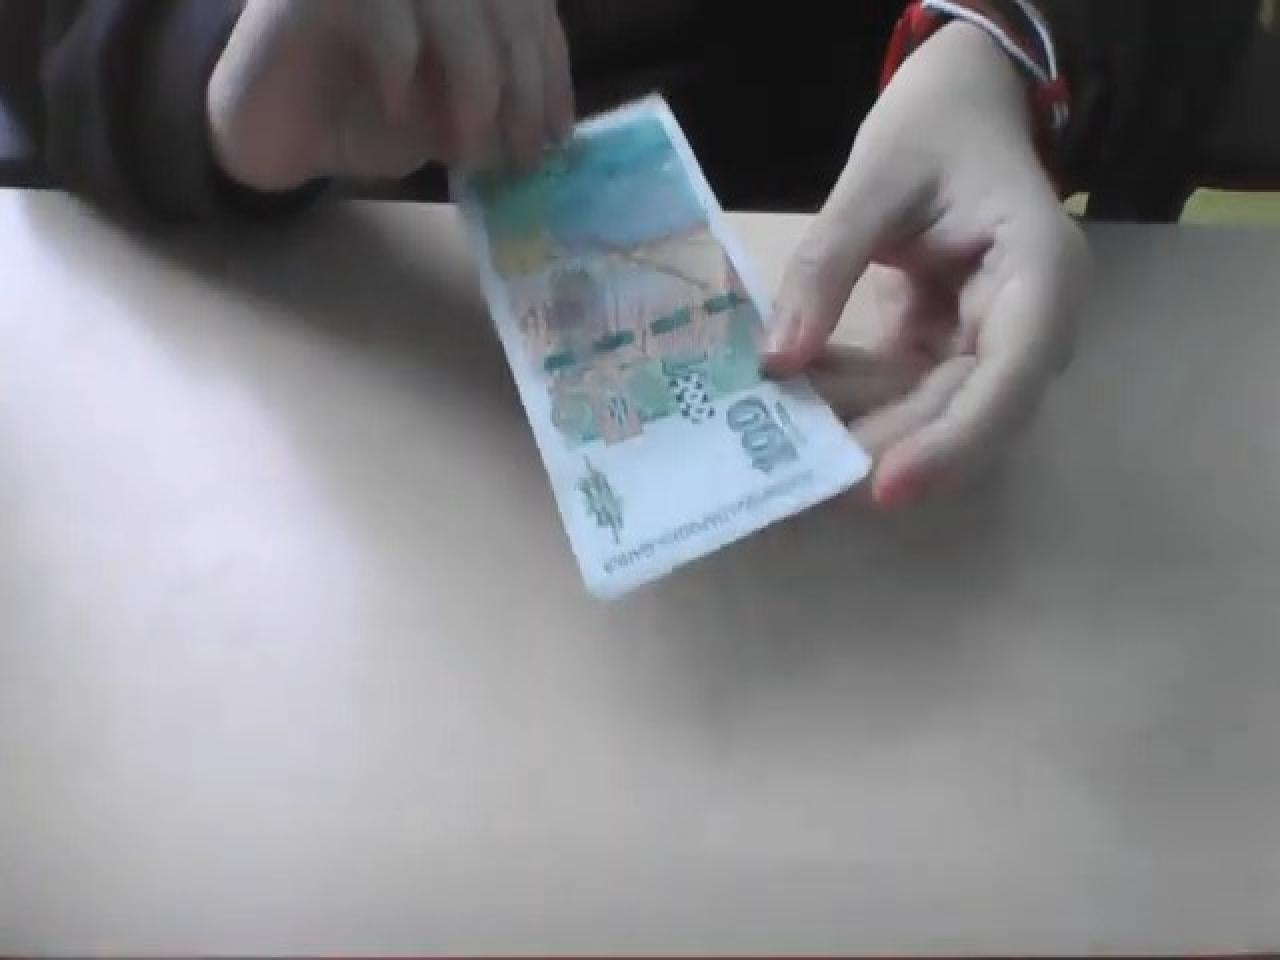100leva: (450, 88, 874, 600)
